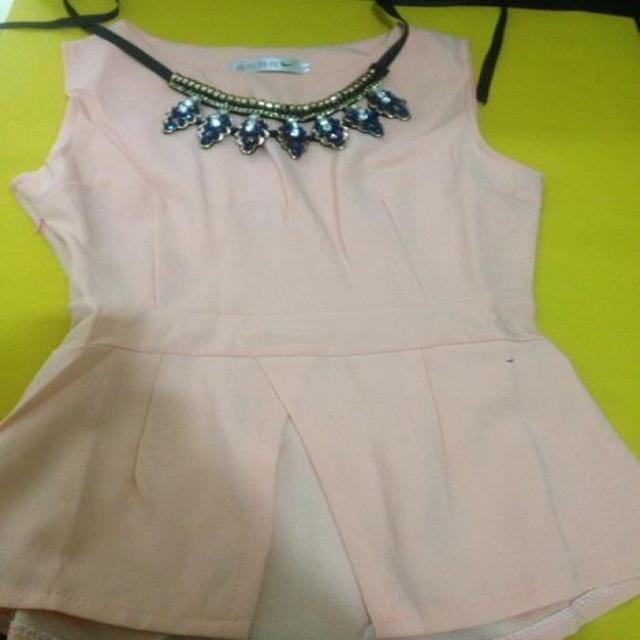vest: (3, 28, 639, 639)
